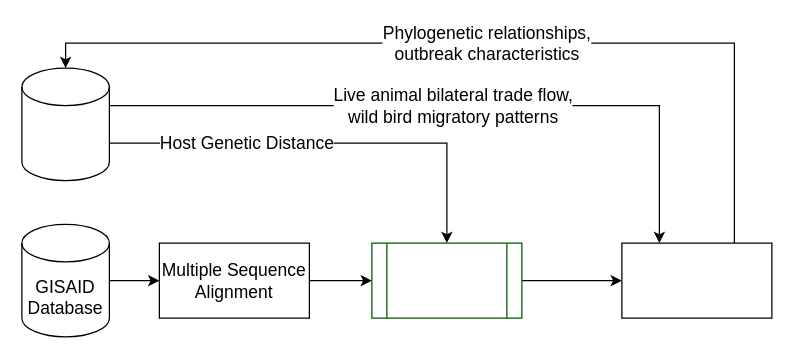
This 794x359 diagram has some shape labels left out. Each missing label, with the box of its shape:
Bayesian Phylodynamic Analysis: (621, 242, 772, 318)
Graph Datastore: (21, 67, 109, 181)
